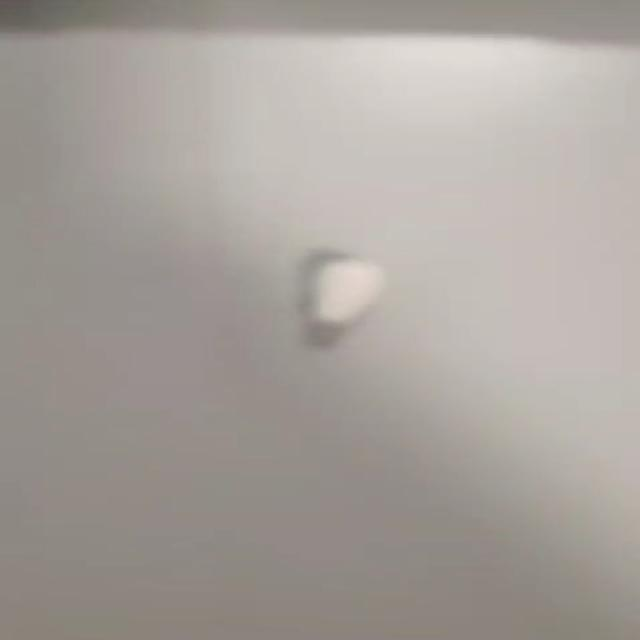Z1x1x1: (306, 260, 388, 329)
